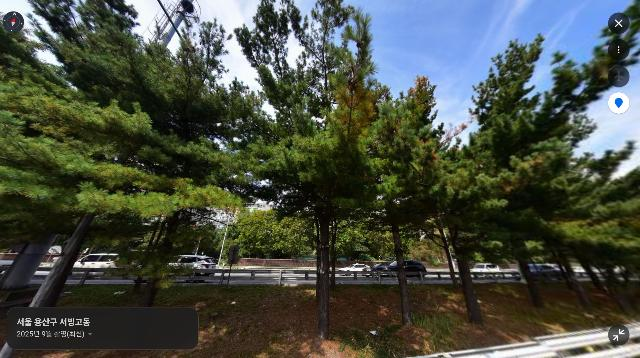other: (26, 0, 257, 308), (213, 0, 395, 342), (420, 28, 580, 326), (0, 19, 160, 307), (339, 71, 467, 327), (527, 32, 640, 312)
